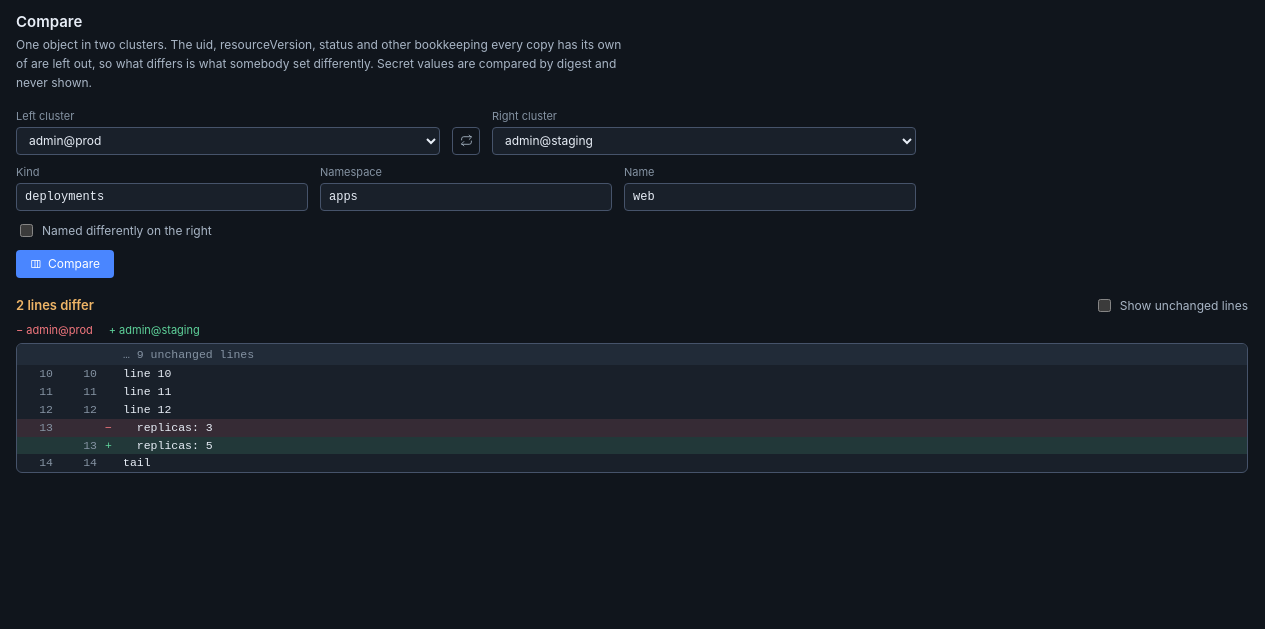
long runs of unchanged lines fold, and unfold when asked
The width and height of the screenshot is (1265, 629).
Expected: the text "replicas: 5" is shown, left=123, top=439, right=213, bottom=452
Step 1. Click the button "… 9 unchanged lines" → [189, 354], box left=17, top=344, right=1247, bottom=365
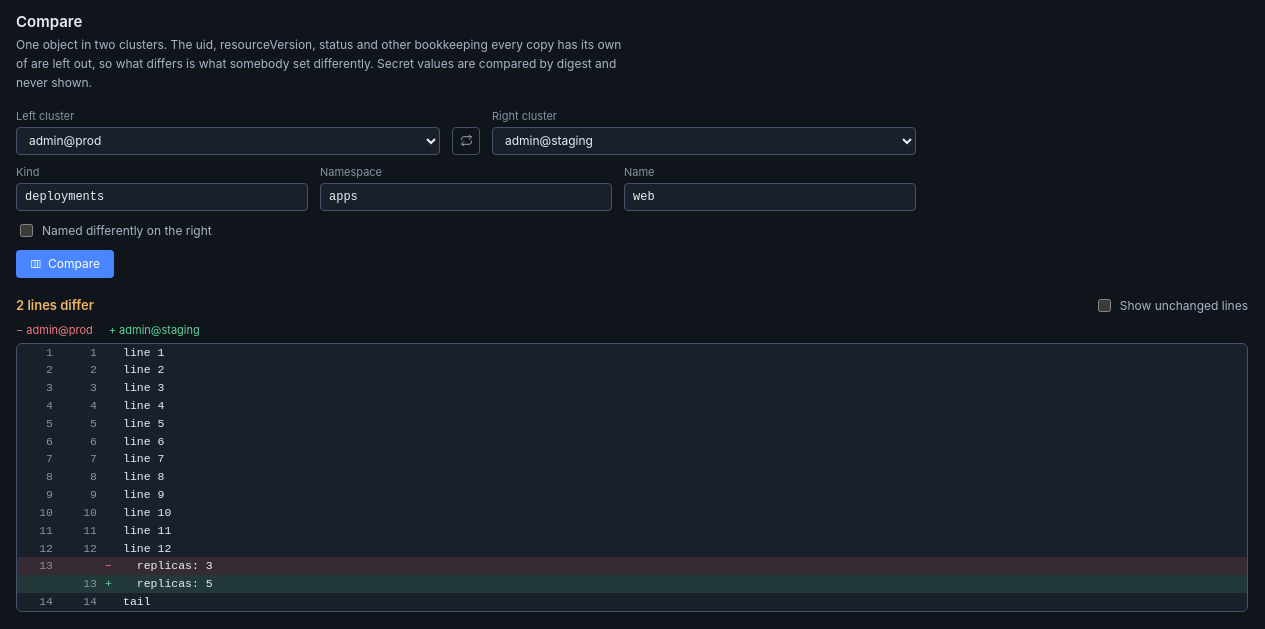
Expected: the text "line 1" is shown, left=123, top=346, right=164, bottom=359
